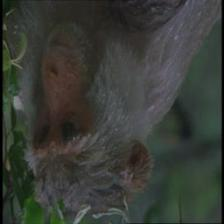monkey: (13, 9, 160, 224)
